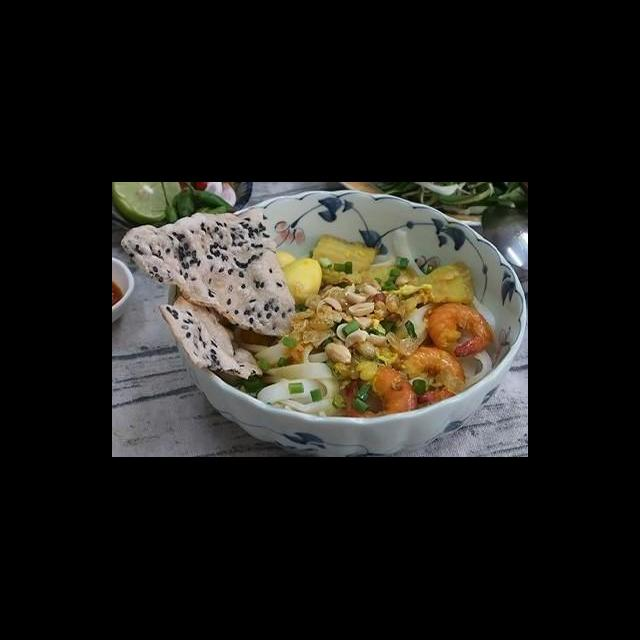banh da: (118, 204, 300, 338), (156, 293, 266, 382)
mi: (231, 326, 348, 424), (452, 296, 500, 392), (366, 228, 429, 280)
thit heo: (358, 258, 477, 308), (306, 232, 382, 290)
tom: (385, 344, 468, 411), (340, 358, 420, 424), (423, 300, 495, 360)
trung: (271, 250, 325, 308)
